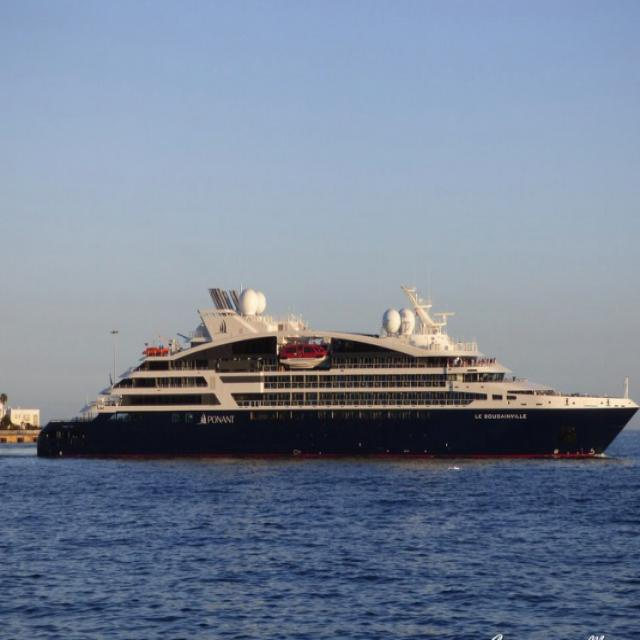cruises: (34, 275, 640, 475)
